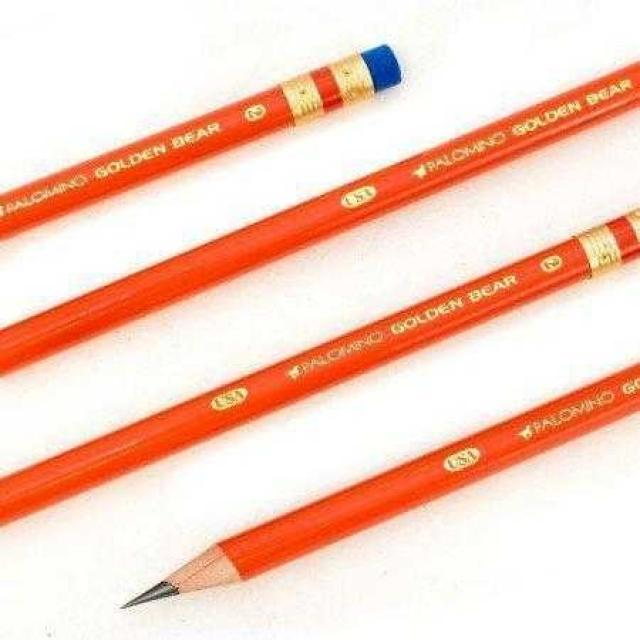pencil: (0, 166, 639, 551), (0, 41, 639, 400), (102, 311, 639, 619), (0, 32, 437, 286)
